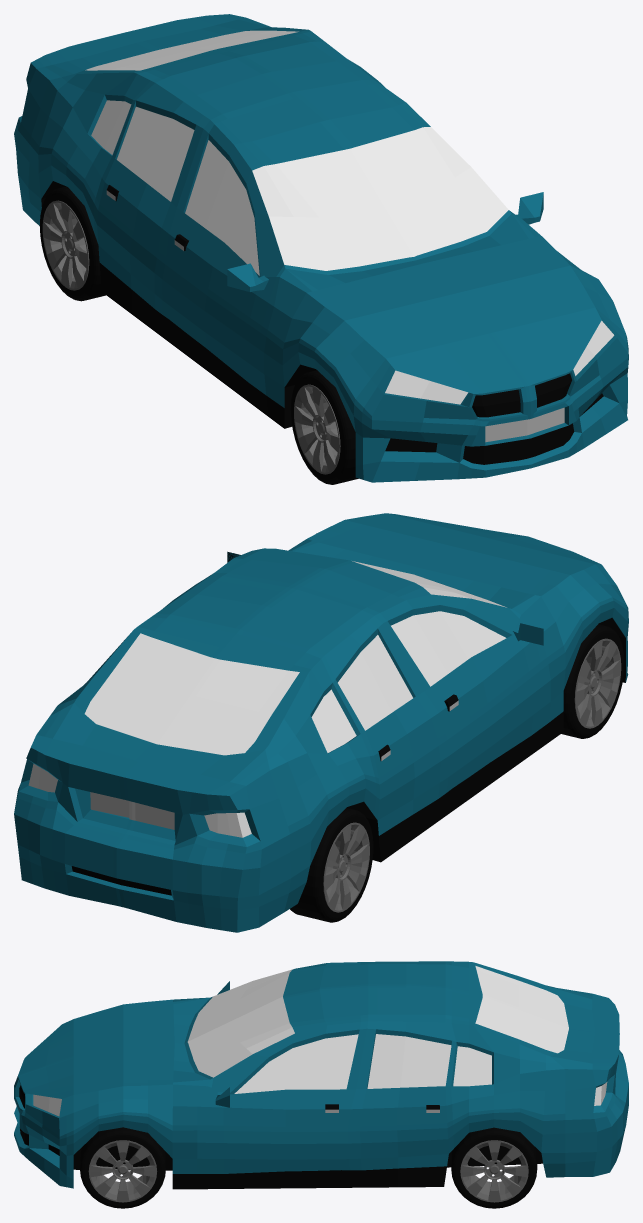
File: Car3.fbx
3 views of the same model, one above another, from view 1: azimuth 30°, elevation 25°; view 2: azimuth 150°, elevation 25°; view 3: azimuth 270°, elevation 25° (orthographic). The views are drawn at different scales.
Visible parts, largest first — view 1: Cube.001, Circle.007, Circle.005, Circle.004, Circle.006; view 2: Cube.001, Circle.007, Circle.005, Circle.006, Circle.004; view 3: Cube.001, Circle.002, Circle.001, Circle.003, Circle.
Part boxes in pixels (x1=…): Cube.001: x1=14, y1=14, x2=628, y2=482; Circle.007: x1=42, y1=200, x2=89, y2=290; Circle.005: x1=294, y1=384, x2=340, y2=474; Circle.004: x1=290, y1=370, x2=358, y2=484; Circle.006: x1=39, y1=186, x2=105, y2=301; Cube.001: x1=14, y1=513, x2=628, y2=932; Circle.007: x1=323, y1=822, x2=369, y2=912; Circle.005: x1=574, y1=638, x2=621, y2=728; Circle.006: x1=290, y1=808, x2=373, y2=922; Circle.004: x1=561, y1=624, x2=624, y2=738; Cube.001: x1=14, y1=961, x2=628, y2=1189; Circle.002: x1=460, y1=1140, x2=528, y2=1202; Circle.001: x1=88, y1=1140, x2=157, y2=1202; Circle.003: x1=451, y1=1127, x2=537, y2=1208; Circle: x1=80, y1=1127, x2=165, y2=1208.
Size of the model in its own units: 169 by 120 by 382.
